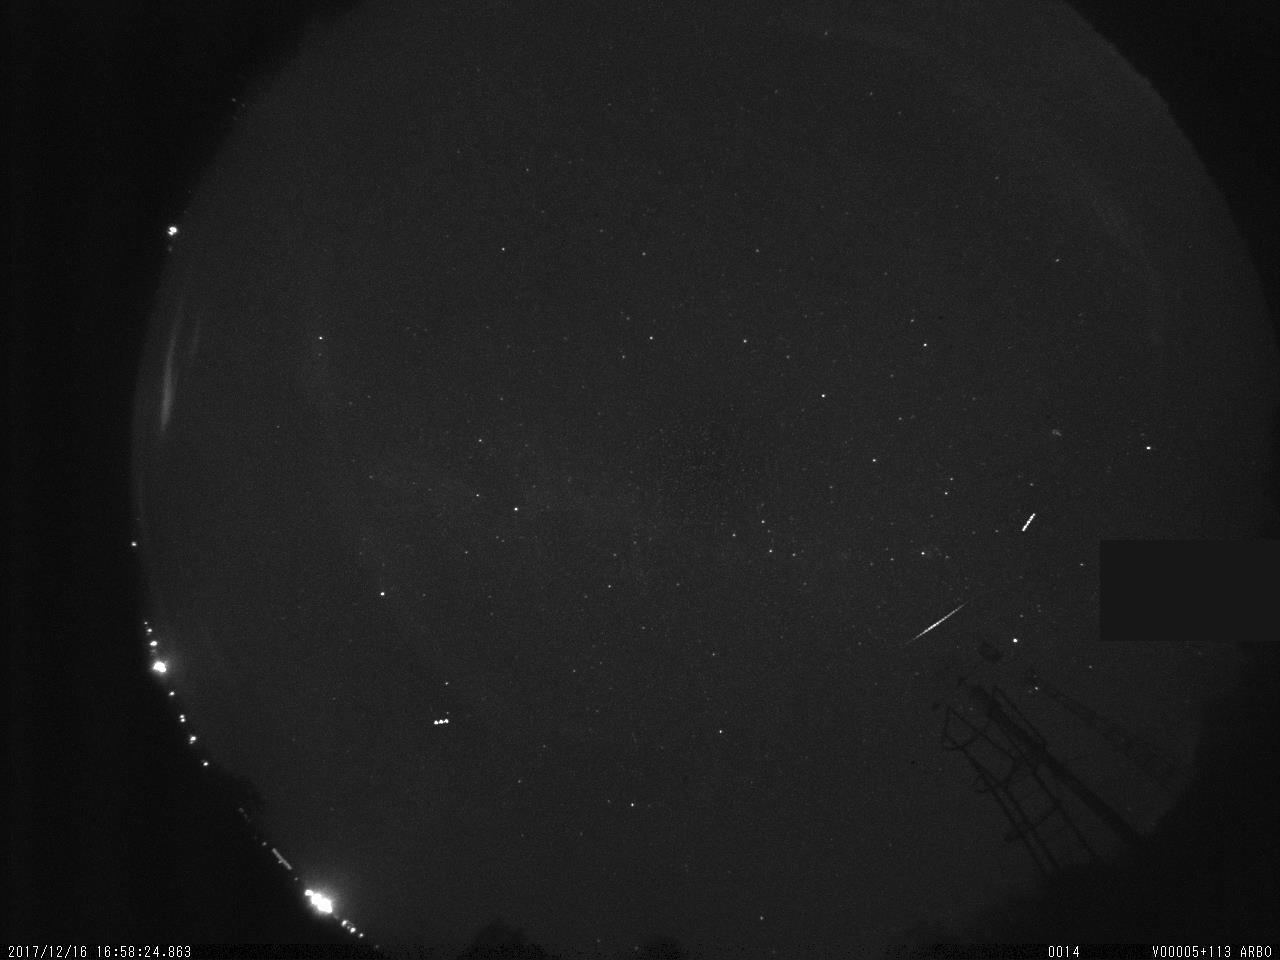Meteor: (904, 600, 969, 647), (1015, 501, 1042, 546)
